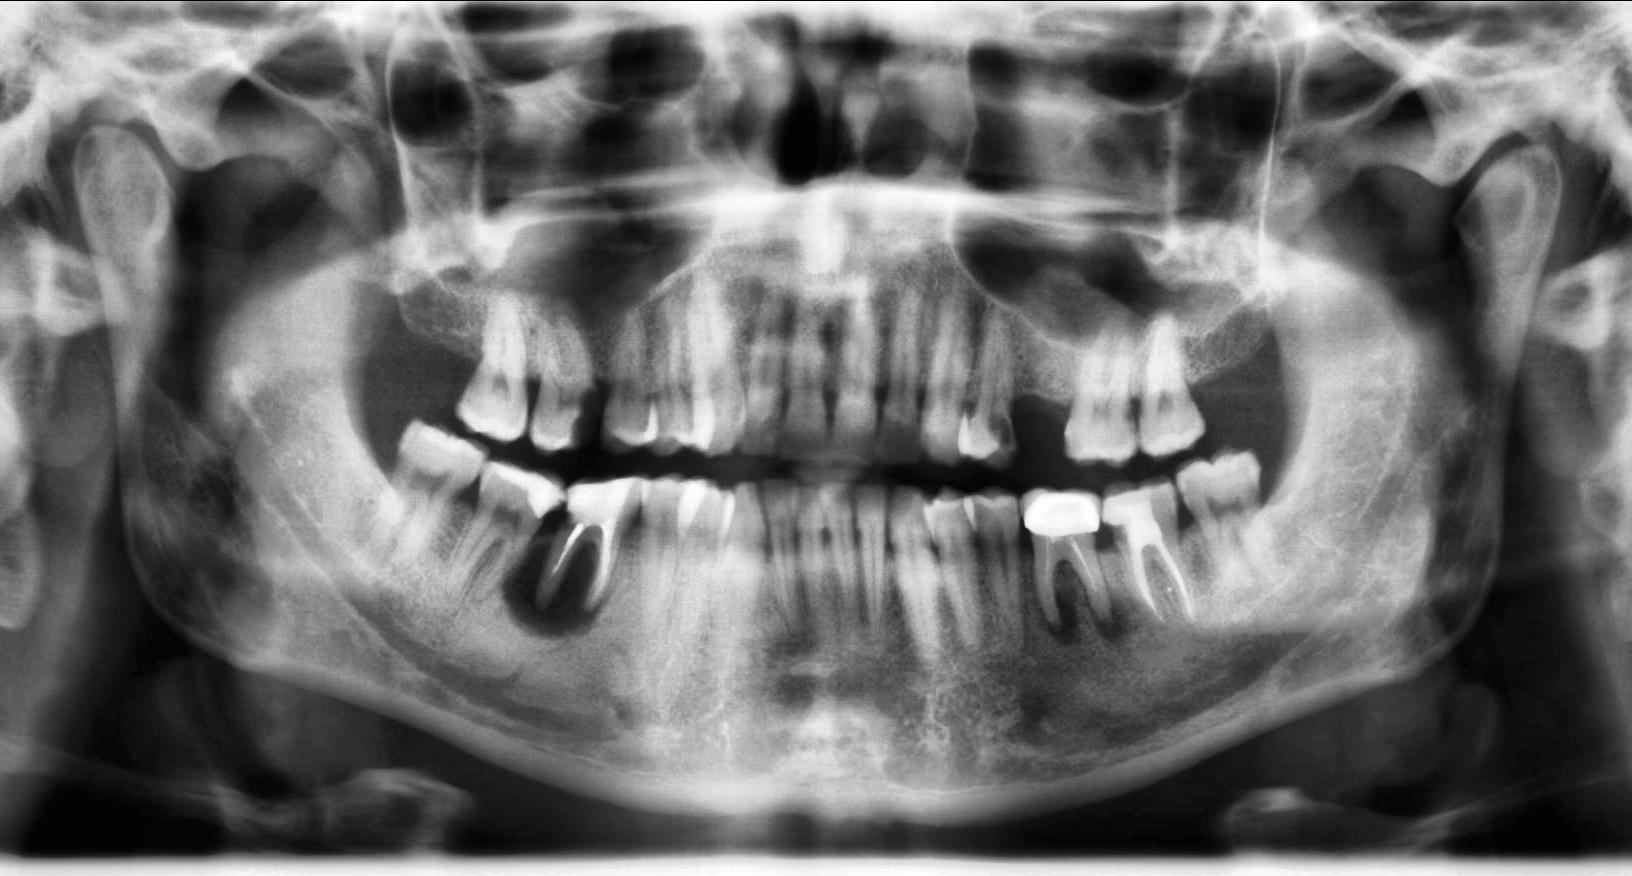radikuler: (501, 541, 613, 639)
